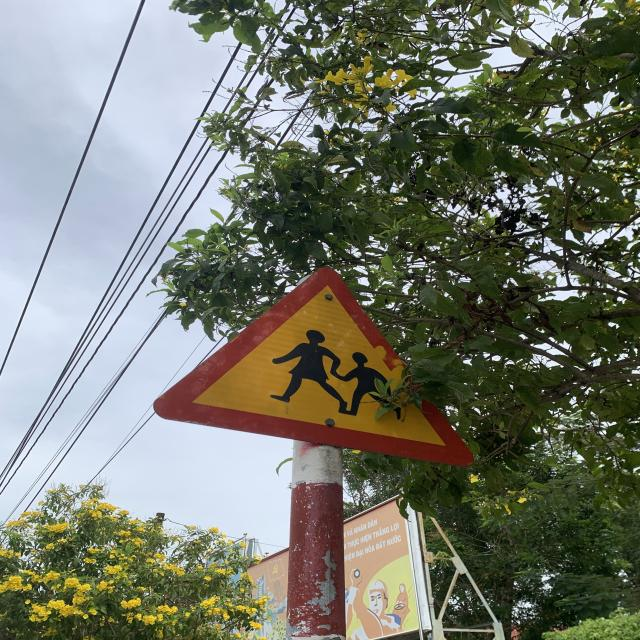Vong_Xuyen: (149, 266, 472, 470)
